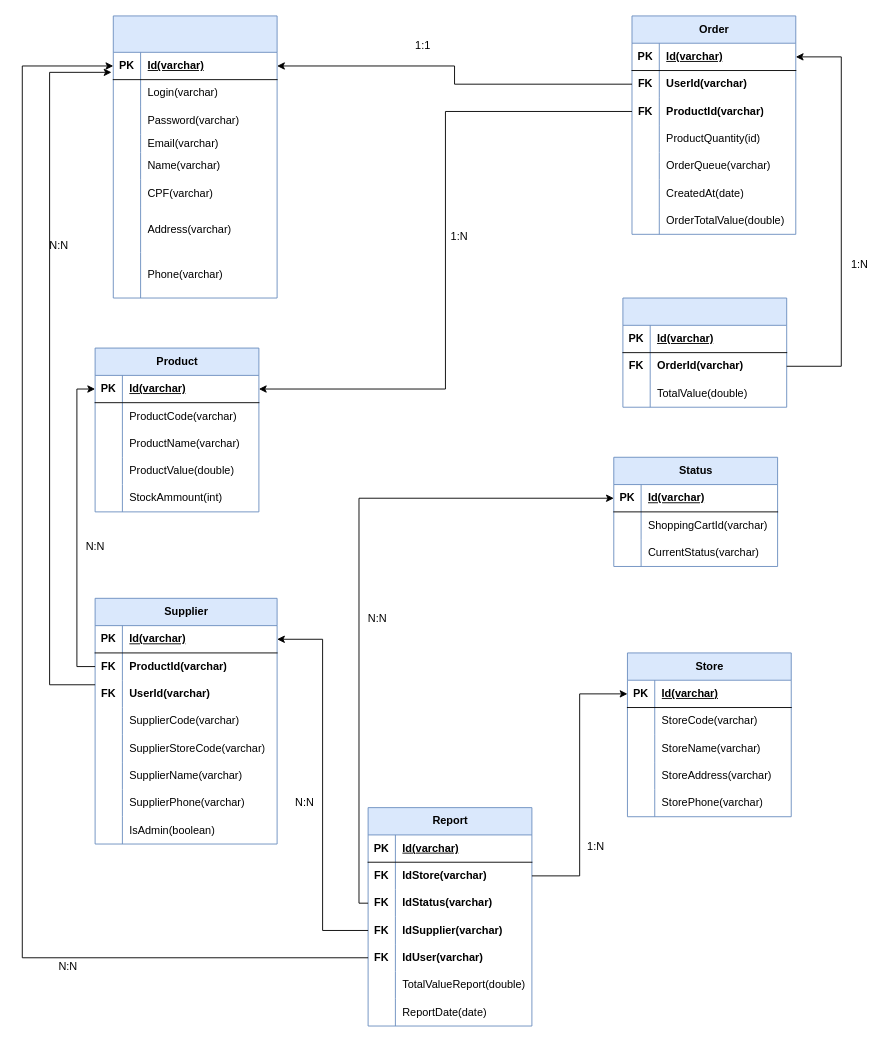
The diagram is 894 pixels wide and 1042 high, and some of its shapes have lost their labels. Each missing label, with the box of its shape:
ShoppingCart: (622, 297, 787, 407)
User: (112, 15, 277, 298)
